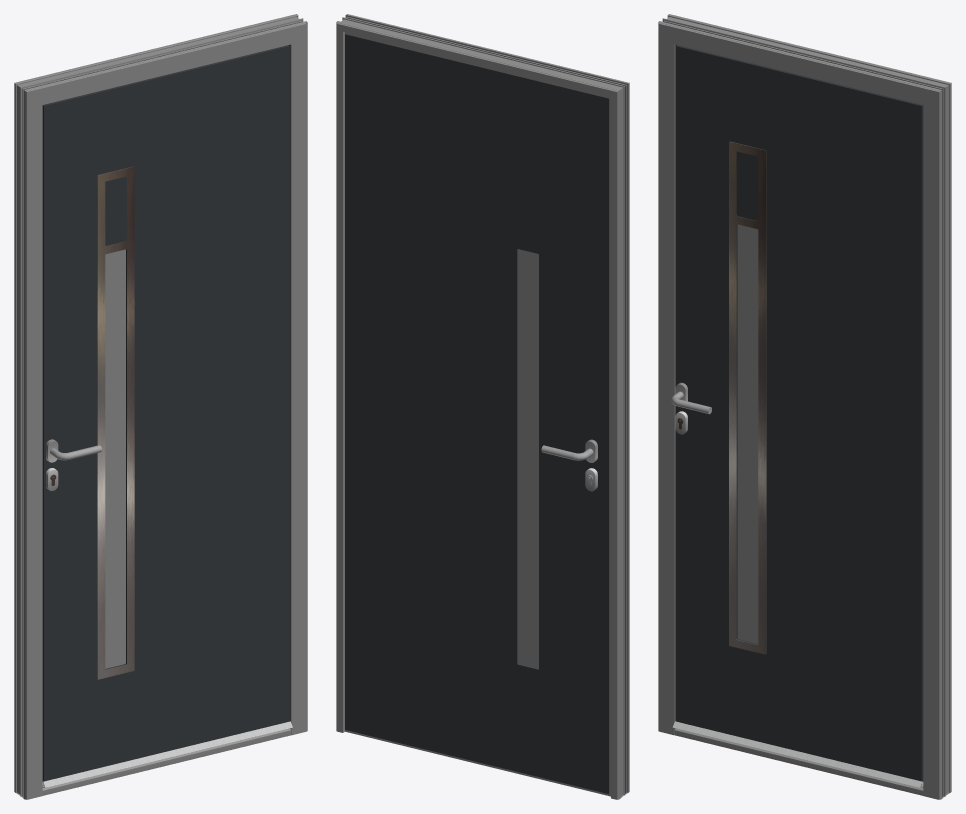
The picture shows the model from 3 angles, left to right: view 1: azimuth 30°, elevation 25°; view 2: azimuth 150°, elevation 25°; view 3: azimuth 330°, elevation 25°; orthographic projection.
Visible parts, largest first — view 1: bloco_11, aroFixo, alunox_8, Box001, rodapé, escovas, puxador001; view 2: bloco_11, aroFixo, Box002, puxador, rodapé; view 3: bloco_11, aroFixo, alunox_8, Box001, rodapé, escovas, puxador001.
Boxes of the visible parts, <box> form: bloco_11: <box>42,45,289,781</box>; aroFixo: <box>14,14,307,799</box>; alunox_8: <box>97,166,134,679</box>; Box001: <box>105,249,125,668</box>; rodapé: <box>42,728,290,795</box>; escovas: <box>42,721,292,787</box>; puxador001: <box>46,439,101,491</box>; bloco_11: <box>345,34,609,793</box>; aroFixo: <box>336,14,629,799</box>; Box002: <box>517,249,538,669</box>; puxador: <box>541,439,597,491</box>; rodapé: <box>348,731,609,795</box>; bloco_11: <box>676,45,923,781</box>; aroFixo: <box>658,14,951,799</box>; alunox_8: <box>729,141,766,654</box>; Box001: <box>737,224,758,643</box>; rodapé: <box>675,728,923,795</box>; escovas: <box>672,721,923,787</box>; puxador001: <box>671,382,711,434</box>.
Size of the model in its own units: 898 by 2151 by 209.
Materials: 10 (5 with a texture image).
